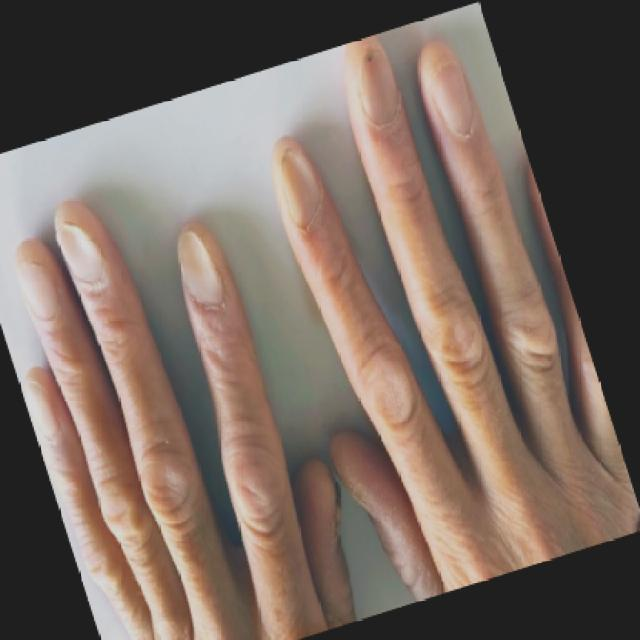Nail: (346, 40, 404, 123), (177, 231, 225, 307), (428, 60, 476, 134), (280, 147, 320, 228), (16, 262, 62, 320), (57, 225, 102, 283), (28, 374, 62, 441)
